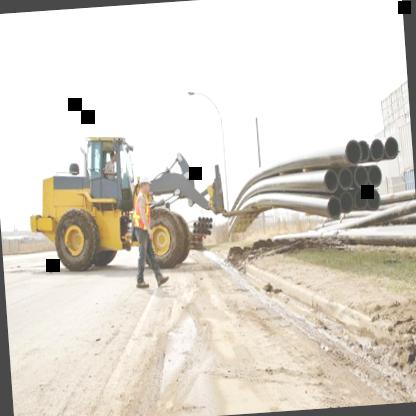helmet: (137, 174, 154, 198)
